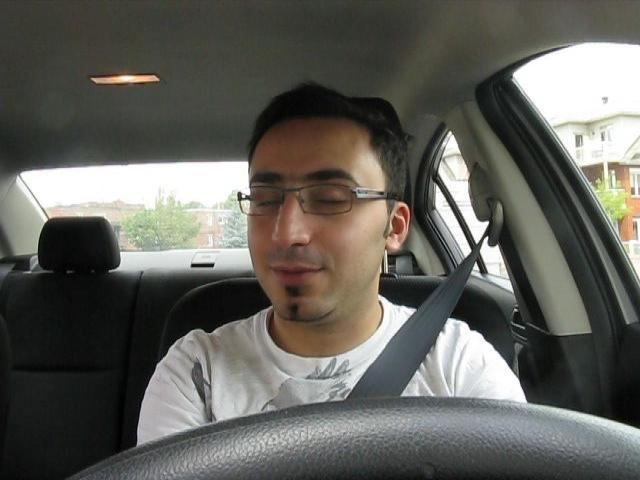eye_closed: (307, 190, 351, 210), (250, 191, 285, 210)
face: (243, 146, 379, 319)
